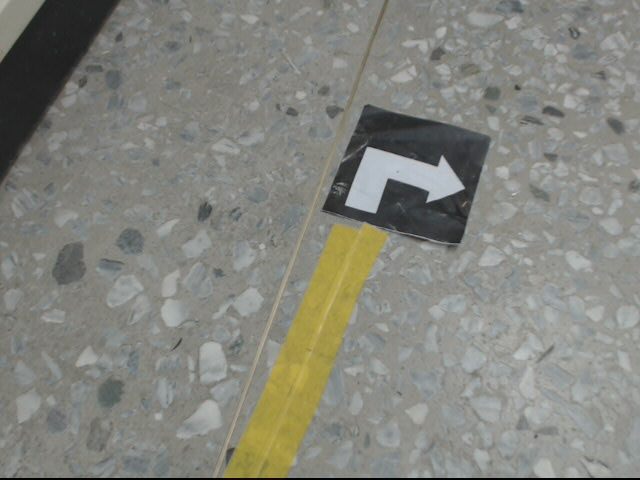right: (320, 104, 494, 247)
